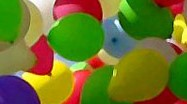Balloon: (107, 48, 170, 103), (46, 12, 104, 62), (21, 60, 74, 104), (118, 1, 173, 39)
